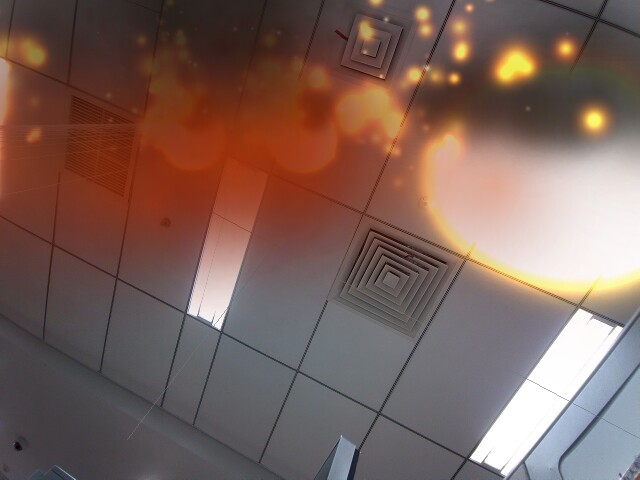fire: (426, 59, 632, 312), (273, 108, 340, 173), (166, 114, 228, 173)
